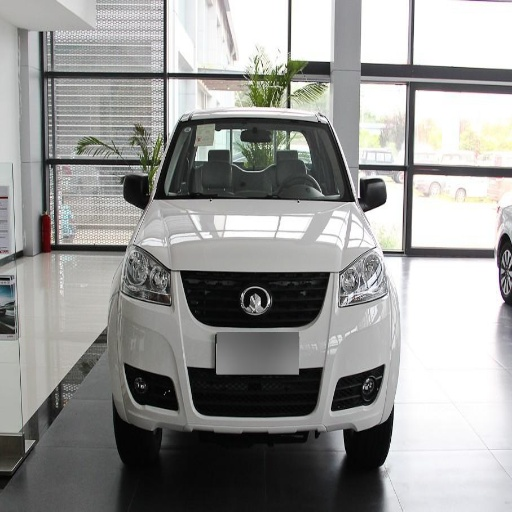front_bumper: (115, 269, 395, 429)
front_right_light: (121, 245, 172, 305)
hood: (139, 200, 371, 270)
